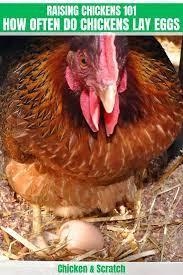egg: (54, 212, 108, 254)
